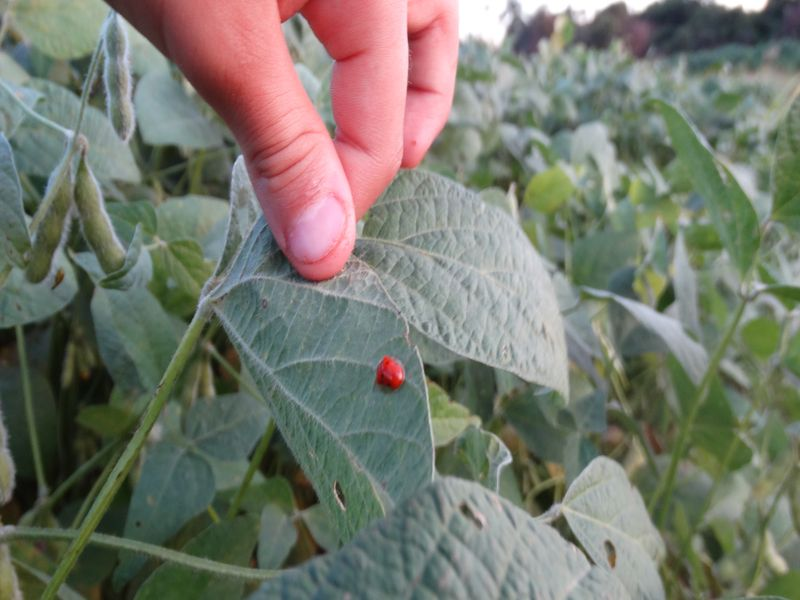Coccinellidae: (363, 347, 417, 397)
